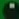black: (0, 0, 19, 19)
